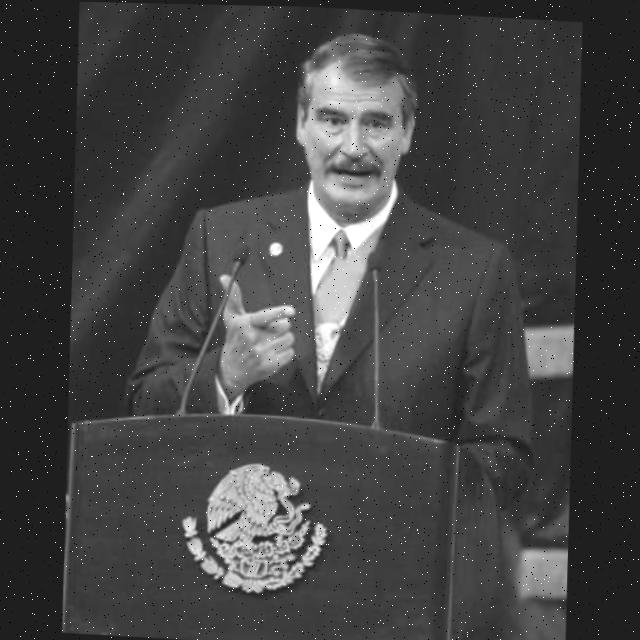face: (281, 31, 422, 233)
